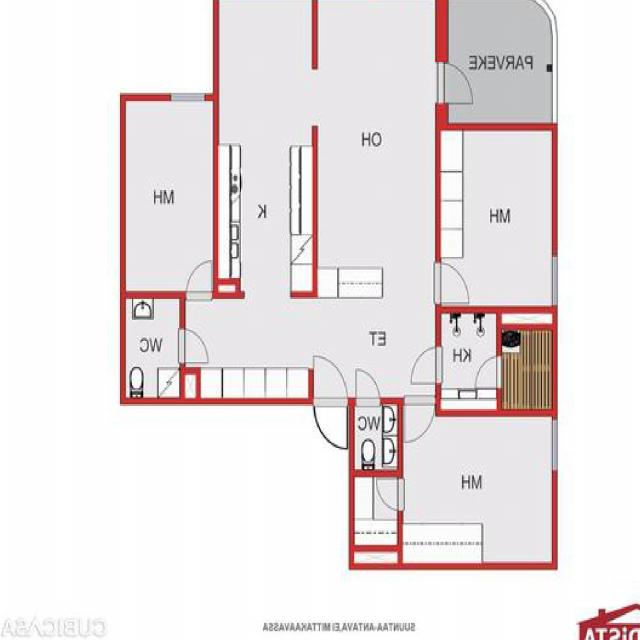door: (436, 61, 478, 102), (315, 354, 348, 406), (315, 398, 348, 449), (404, 398, 435, 446), (436, 263, 470, 303), (408, 346, 440, 383), (187, 256, 212, 298), (180, 328, 210, 362), (356, 366, 381, 405), (472, 356, 502, 388), (374, 479, 402, 510)
